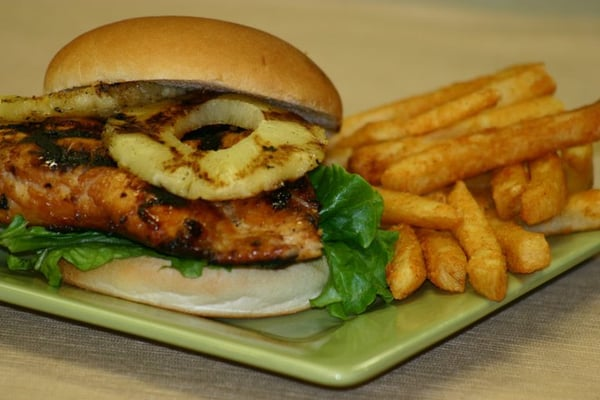soup: (1, 14, 345, 311)
